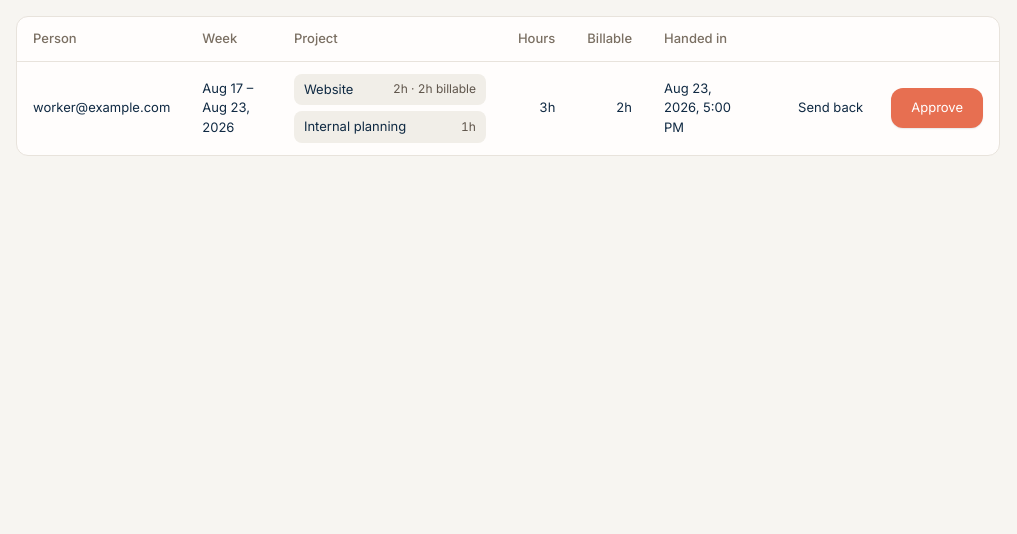
Test case: ApprovalsView › keeps affected project links visible after approval
Click the button "Approve" at x=937, y=108, box [891, 88, 983, 128]
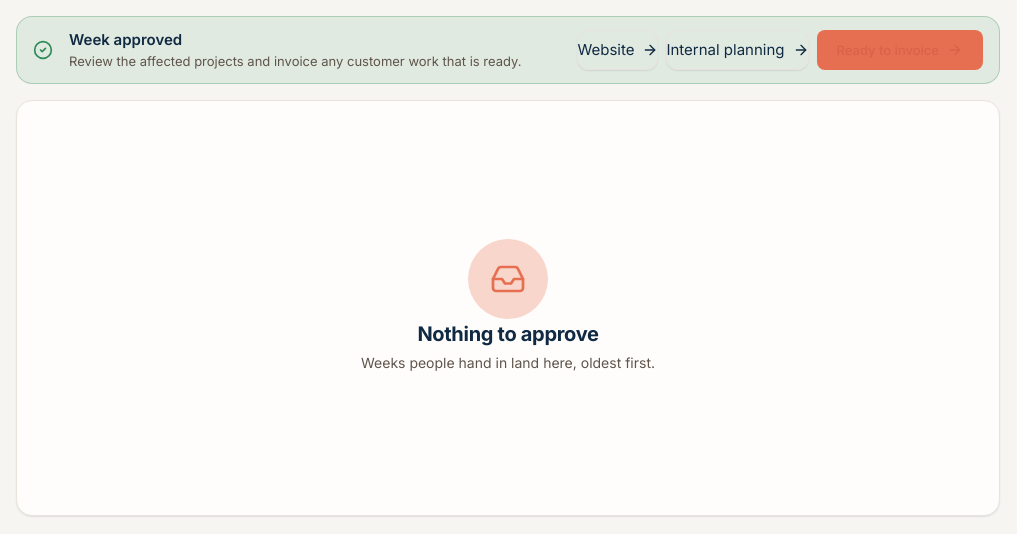
Check: the text "Week approved" is shown, box [69, 30, 182, 49]
Check: the button "Website" is shown, box [577, 30, 658, 70]
